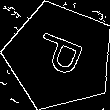P_E: (28, 29, 91, 83)
